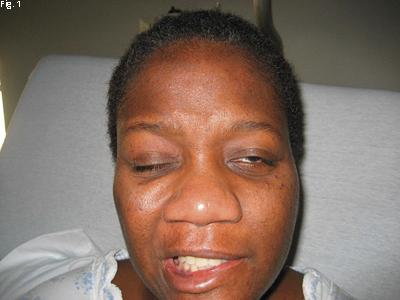strokeMouthMid: (142, 235, 257, 295)
